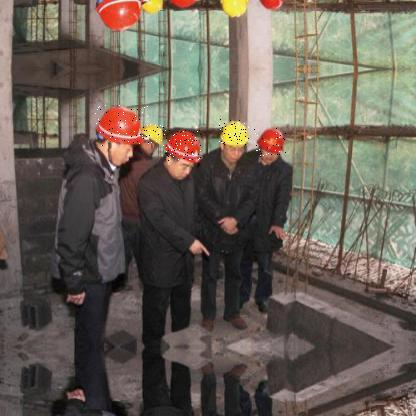safetyhelmet: (95, 106, 150, 147), (163, 130, 202, 162), (254, 128, 287, 158), (219, 118, 250, 146), (141, 124, 165, 145)
